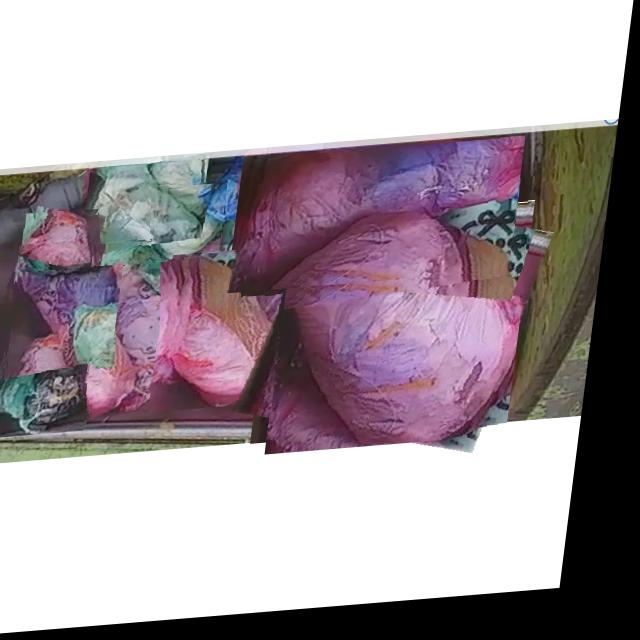general_trashbag: (88, 168, 209, 247), (78, 237, 175, 323), (7, 354, 98, 436), (159, 187, 229, 262)
other_trashbag: (296, 213, 525, 453), (236, 147, 529, 298), (178, 258, 285, 412), (102, 268, 211, 415), (25, 268, 127, 364), (27, 213, 98, 297)
